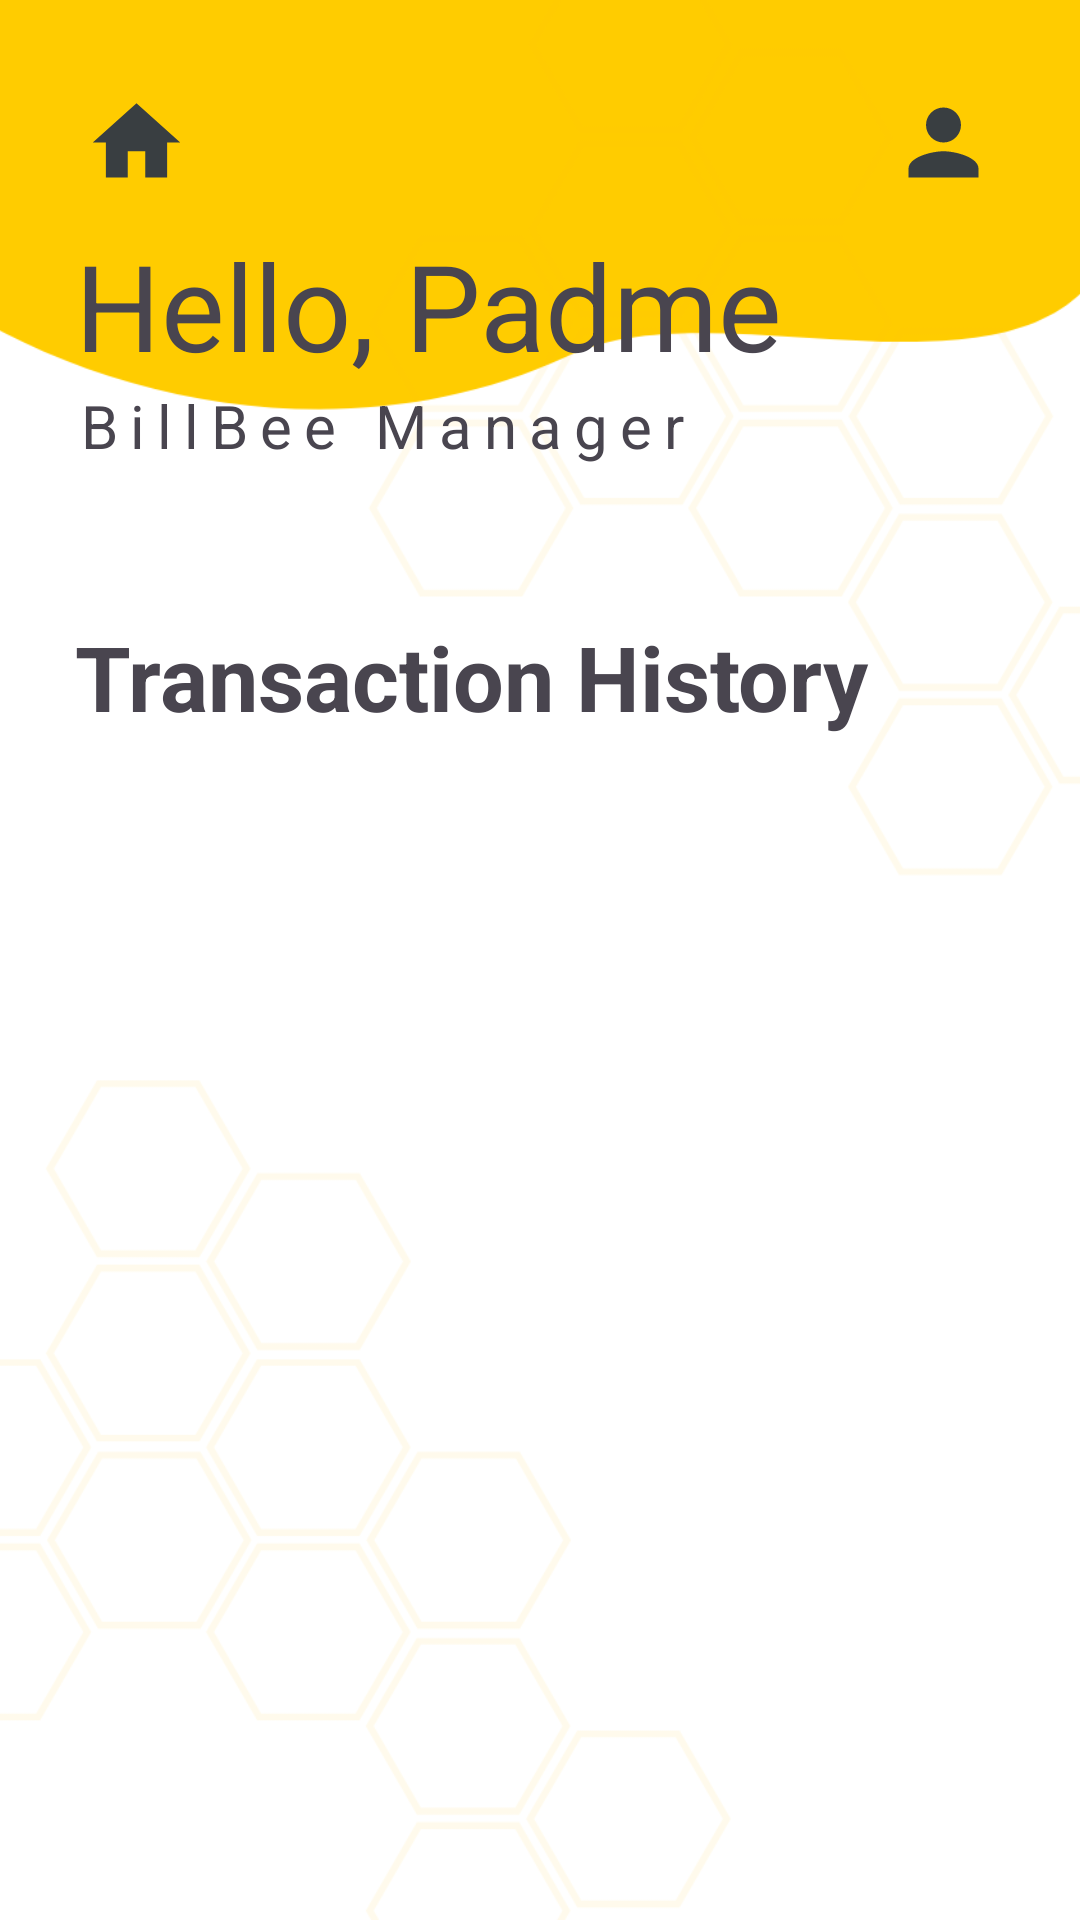

Where icons sit on this 1080px×1920px app screen, as box=[x1, y1, x2, y2]:
home: box=[93, 103, 180, 178]
person: box=[908, 107, 979, 178]
